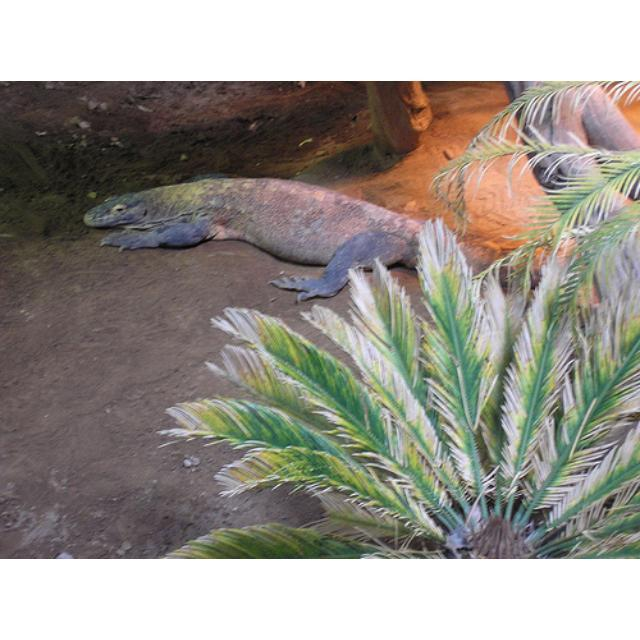KomodoDragon: (78, 172, 422, 302)
